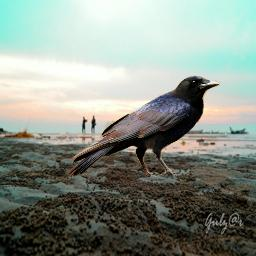Crow: (67, 74, 220, 177)
